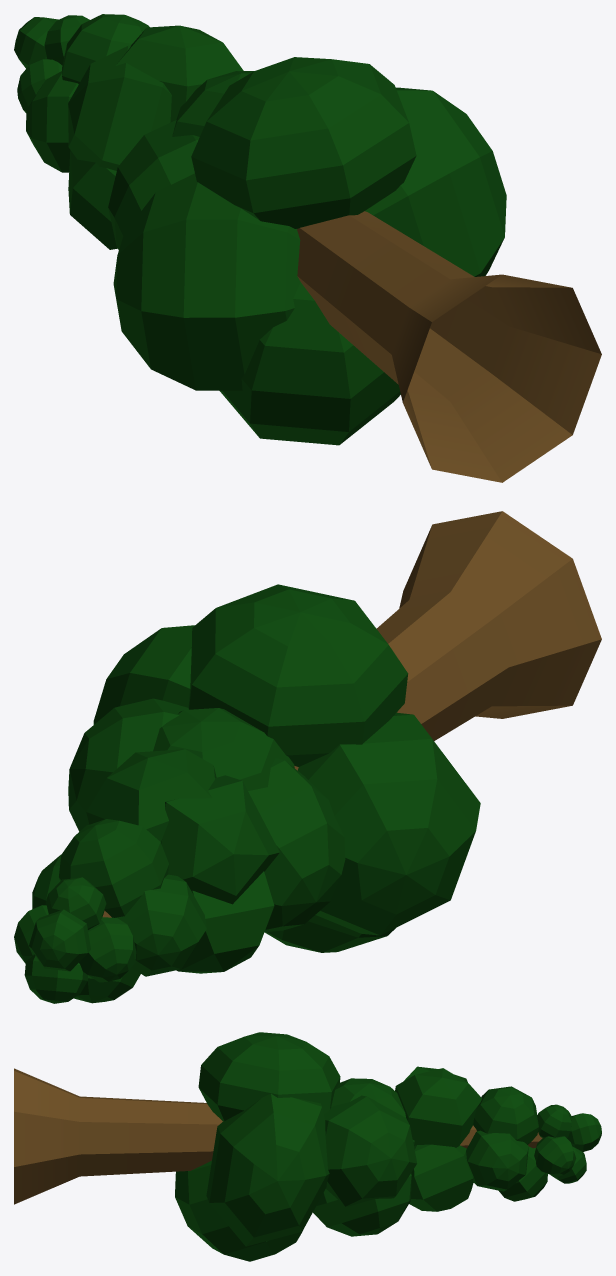
The model's file is Tree04.fbx.
3 renders of one model, top to bottom at view 1: azimuth 30°, elevation 25°; view 2: azimuth 150°, elevation 25°; view 3: azimuth 270°, elevation 25°, orthographic. The views are drawn at different scales.
Visible parts, largest first — view 1: Tree04; view 2: Tree04; view 3: Tree04.
Part boxes in pixels (x1,y1,x2,y2): Tree04: (14, 14, 601, 482); Tree04: (14, 511, 601, 1003); Tree04: (14, 1032, 601, 1261).
Size of the model in its own units: 2.27 by 2.1 by 5.07.
